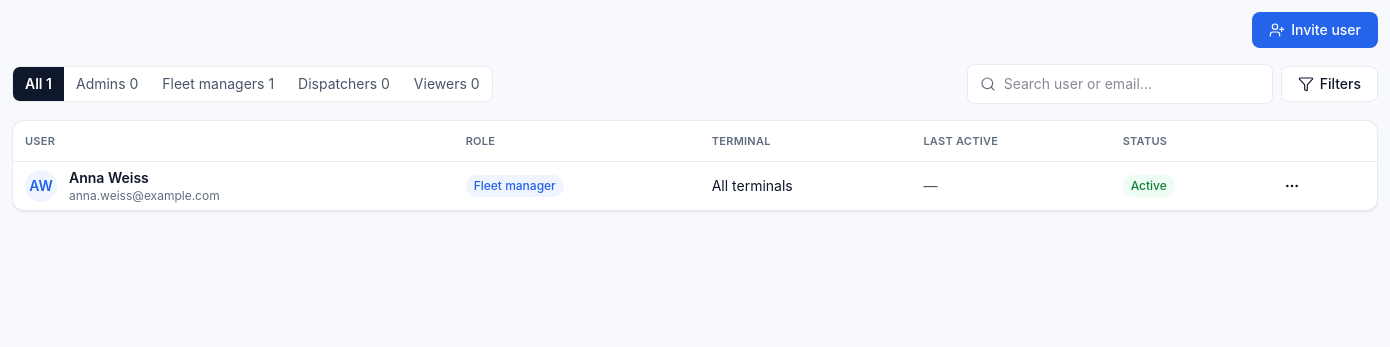
Test: UsersPage — W-18 › resends an invitation and disables an active user from the row menu
Expected: the text "Anna Weiss" is shown, [69,168,149,186]
Click the button named "Row actions": (1292, 186) [1276,170,1308,202]
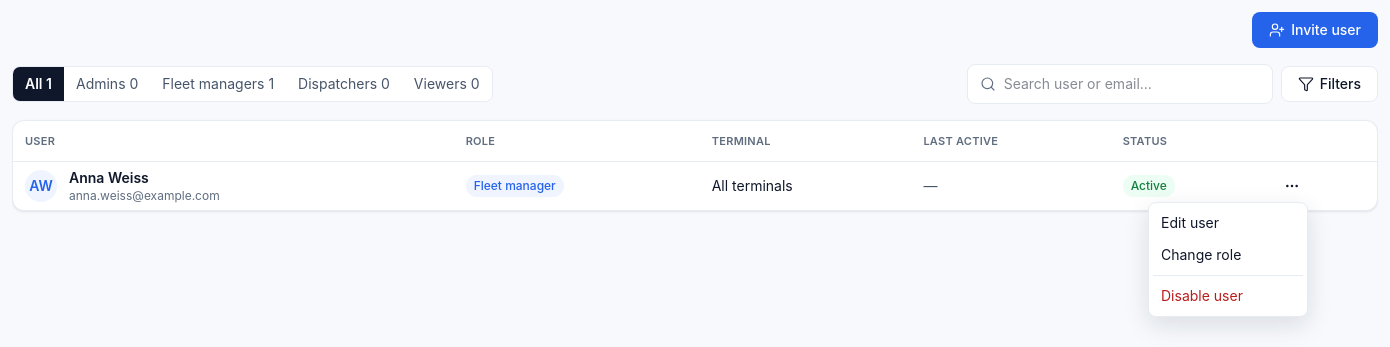
Click the menu item "Disable user": (1202, 296) [1161,287,1243,304]
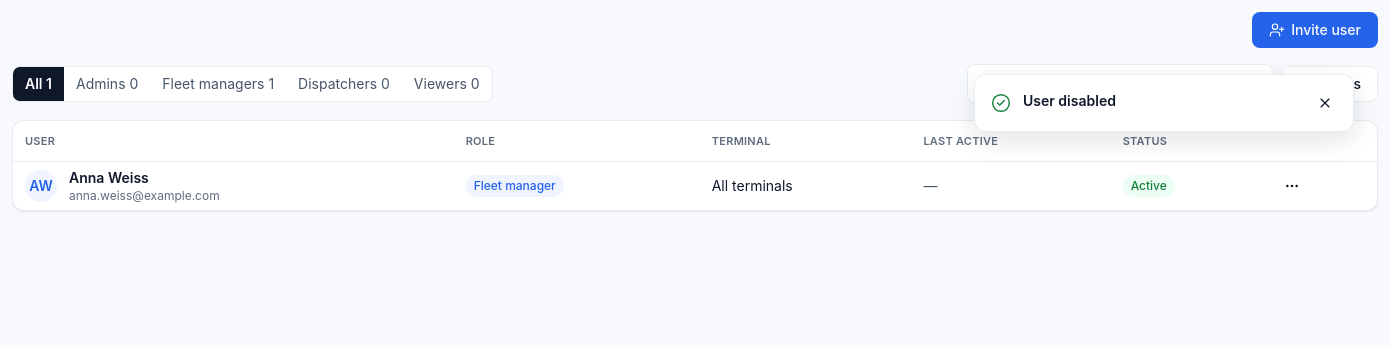
Now the text "User disabled" is shown, box [1023,92,1116,109]
